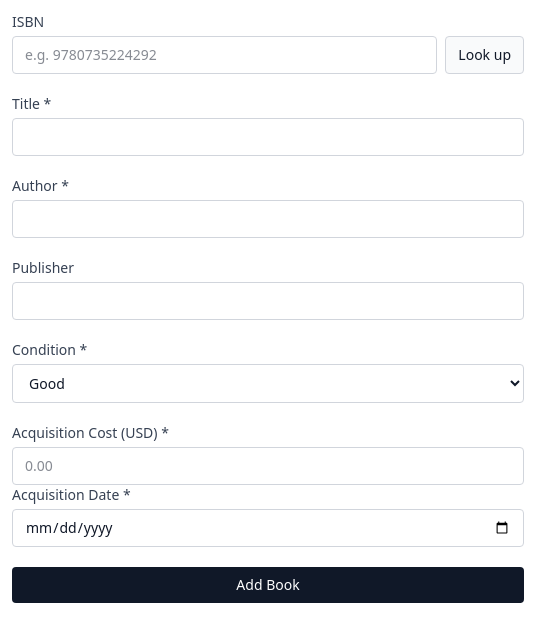
Test: AddBookForm › surfaces field-level errors from a 422 response without redirecting
In the field below "Title *": (268, 137) [12,118,524,156], type "Some Title"
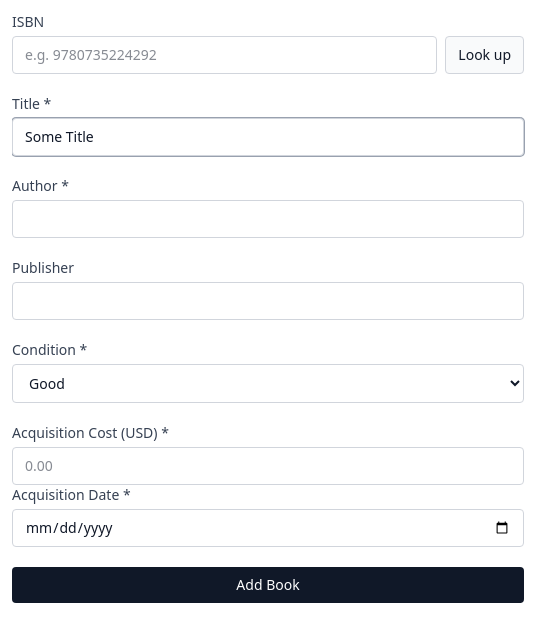
In the field below "Author *": (268, 219) [12,200,524,238], type "Some Author"
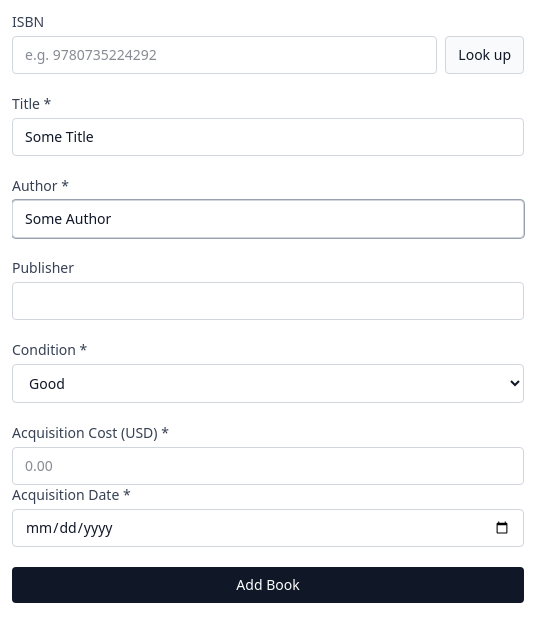
In the number field with placeholder "0.00": (268, 466) [12,447,524,485], type "12.5"
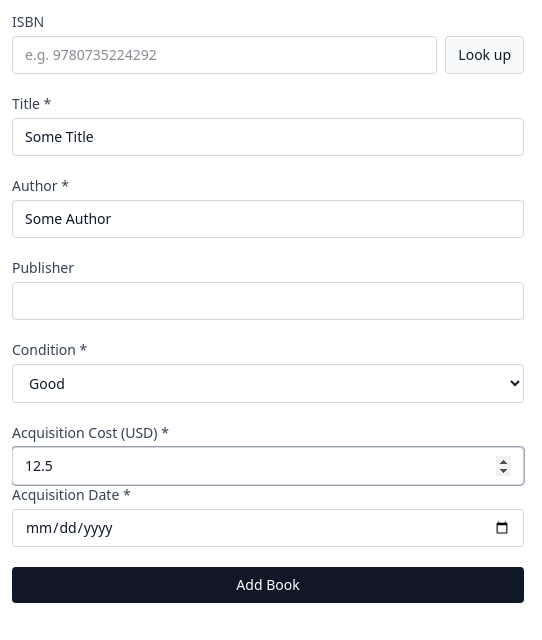
In the date field: (268, 528) [12,509,524,547], type "2026-01-15"
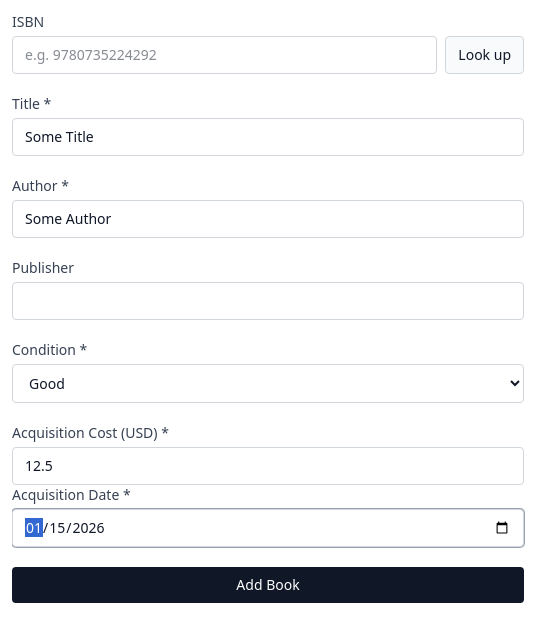
Click the button "Add Book": (268, 585) [12,567,524,603]
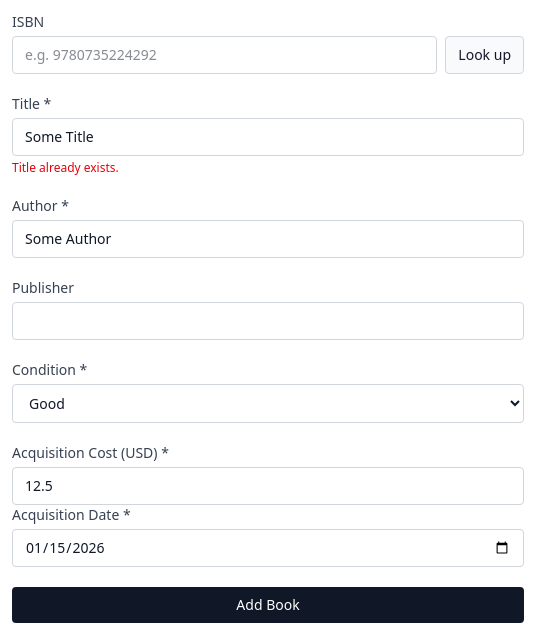
Expected: the text "Title already exists." is shown, [12,159,119,176]
